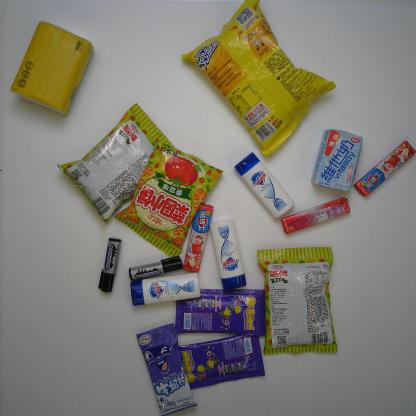Candy: (136, 324, 198, 413), (178, 330, 266, 390), (175, 288, 266, 336), (355, 139, 415, 198), (280, 197, 352, 235), (181, 202, 214, 274)
Milk: (312, 128, 364, 194)
Personal Hygiene: (234, 151, 294, 219), (208, 219, 248, 289), (130, 269, 202, 307)
Puffed Food: (180, 1, 336, 158), (56, 103, 180, 224), (108, 136, 224, 259), (255, 246, 338, 358)
Stationery: (128, 253, 182, 282), (96, 237, 122, 294)
Tissue: (8, 20, 94, 115)
